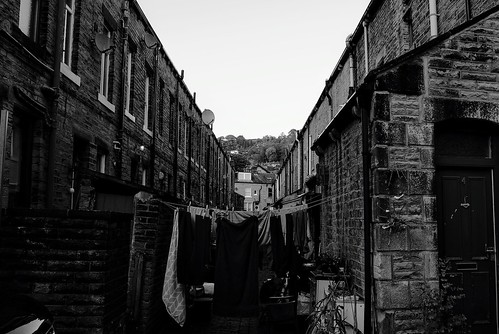building: (9, 7, 231, 317), (320, 1, 499, 327)
sky: (142, 2, 352, 136)
